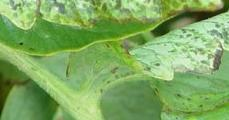Tomato leaf bacterial spot: (0, 0, 229, 54), (126, 0, 229, 112)
